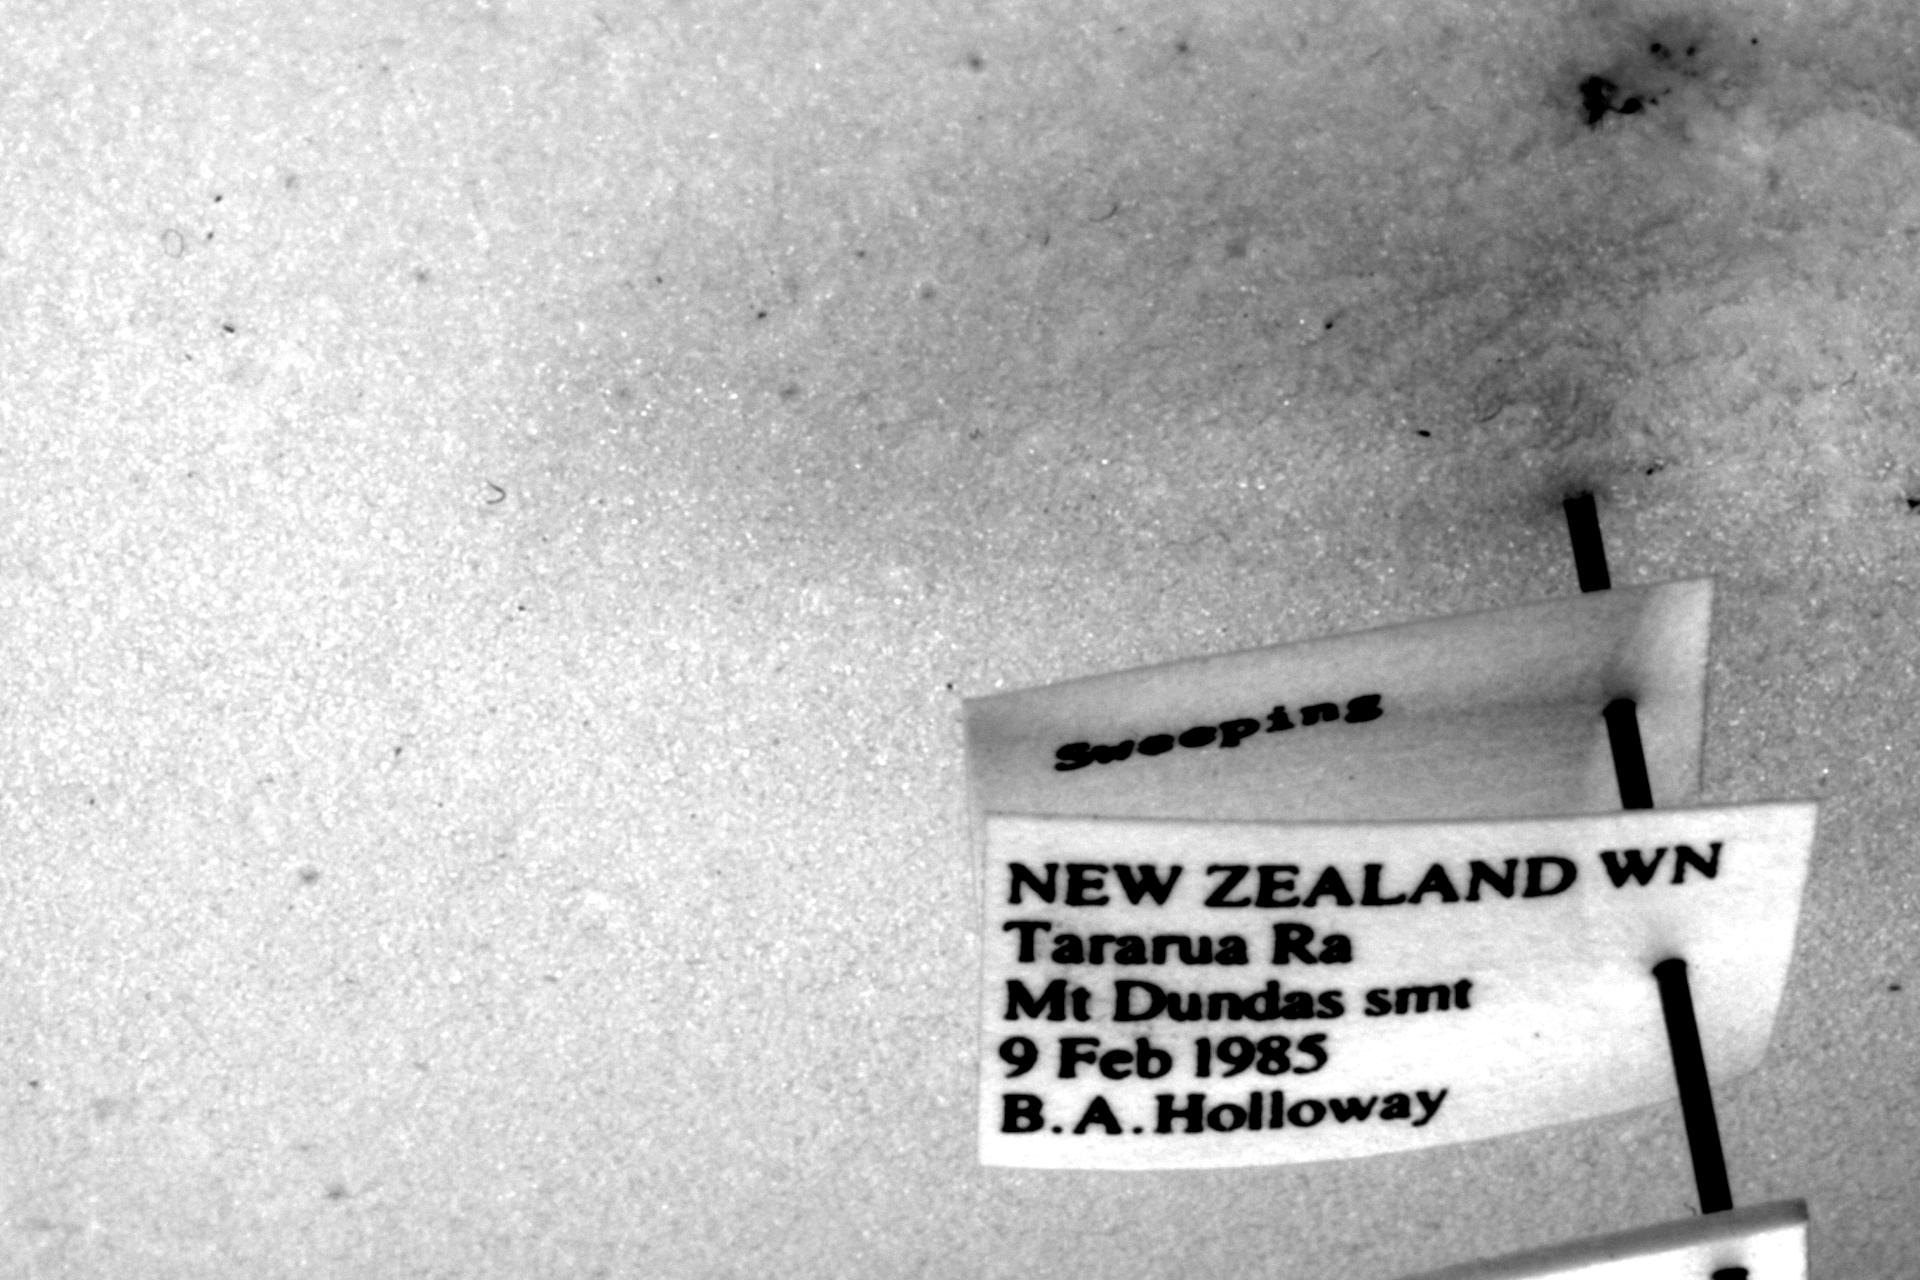typed_label: (979, 803, 1814, 1170), (964, 577, 1714, 886)
